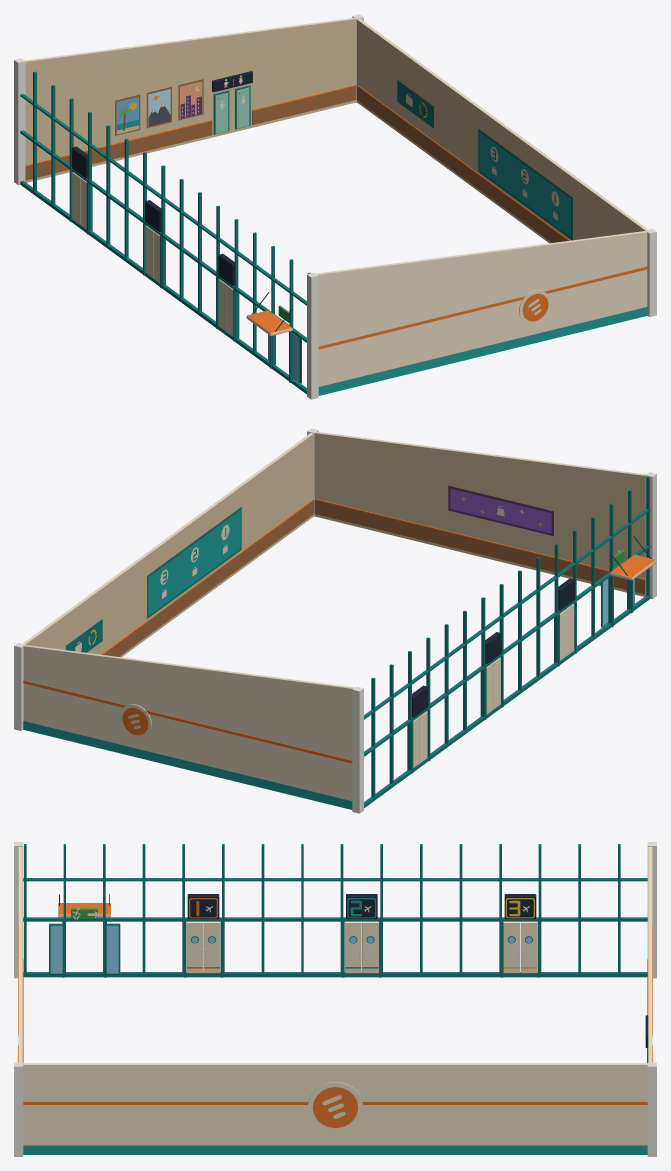
The model's file is LobbyParedes.fbx.
3 views of the same model, one above another, from view 1: azimuth 30°, elevation 25°; view 2: azimuth 150°, elevation 25°; view 3: azimuth 270°, elevation 25° (orthographic). The views are drawn at different scales.
Parts seen in each view (by area): view 1: LobbyParedes; view 2: LobbyParedes; view 3: LobbyParedes.
Part boxes in pixels (left/top/right/bottom): LobbyParedes: left=14, top=14, right=656, bottom=399; LobbyParedes: left=14, top=428, right=656, bottom=813; LobbyParedes: left=14, top=842, right=656, bottom=1156.
Size of the model in its own units: 69.2 by 22.1 by 97.4.
1 material, 1 textured.
